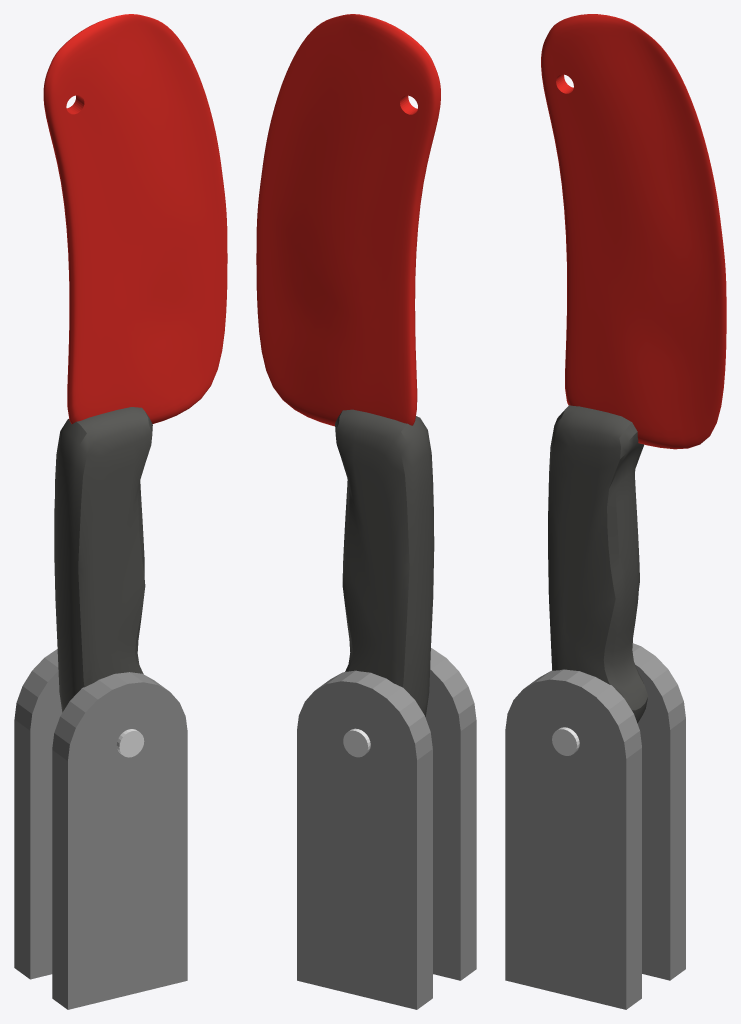
The model's file is obstacle09.fbx.
3 renders of one model, left to right at view 1: azimuth 30°, elevation 25°; view 2: azimuth 150°, elevation 25°; view 3: azimuth 330°, elevation 25°, orthographic.
Visible parts, largest first — view 1: obstacle09.2, obstacle09.1; view 2: obstacle09.2, obstacle09.1; view 3: obstacle09.2, obstacle09.1.
Boxes of the visible parts, x1,y1,x2,y2 form: obstacle09.2: (43,14,227,712); obstacle09.1: (14,649,187,1009); obstacle09.2: (256,14,440,716); obstacle09.1: (297,648,476,1009); obstacle09.2: (541,14,726,723); obstacle09.1: (505,643,685,1009).
Size of the model in its own units: 27.13 by 130 by 15.29.
